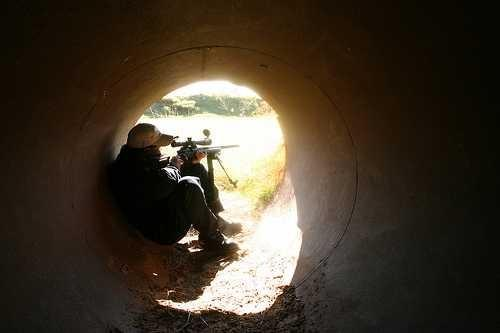heavyweapon: (149, 132, 259, 195)
